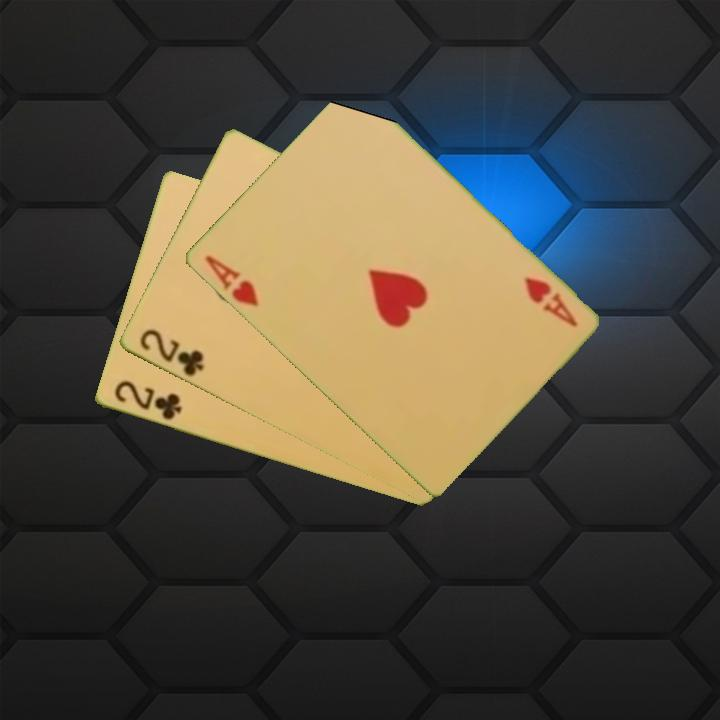2c: (135, 326, 206, 380), (110, 377, 185, 424)
Ah: (201, 252, 261, 310), (520, 273, 580, 330)
